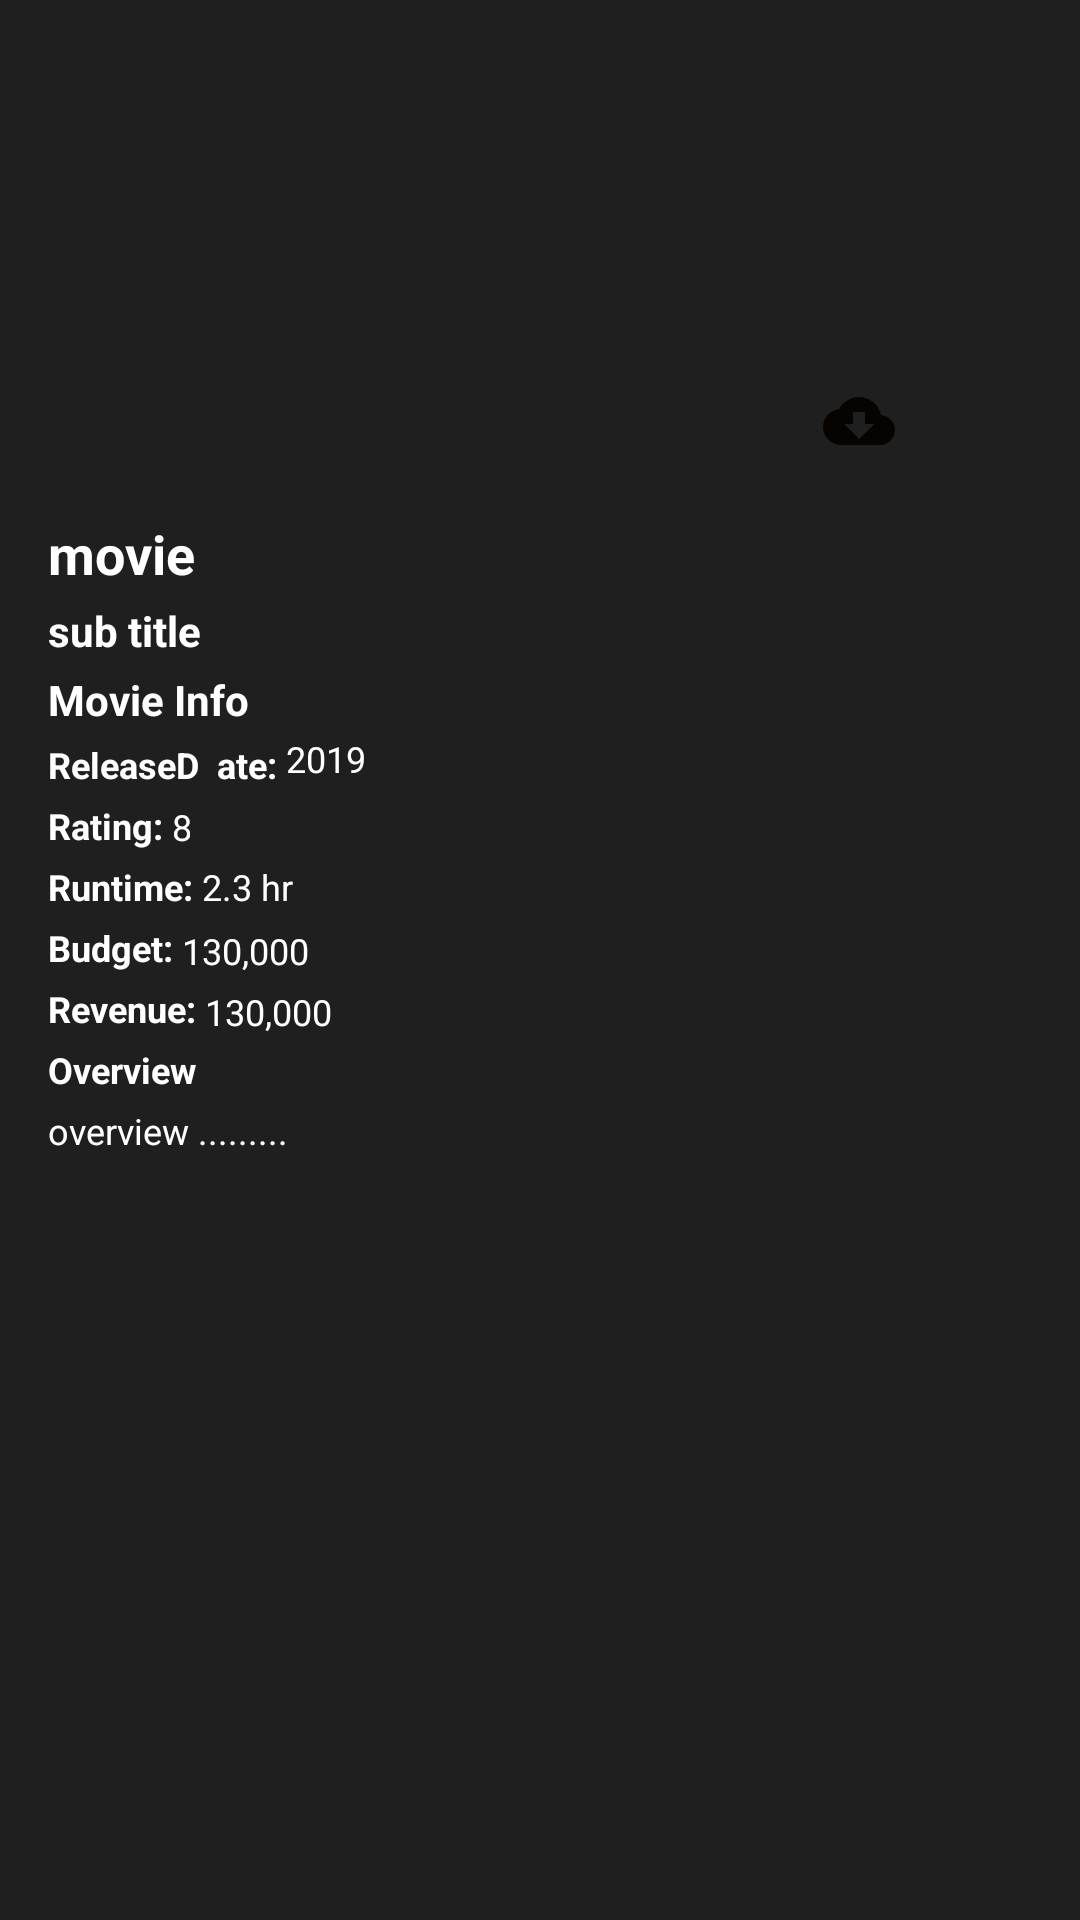

Screen size 1080x1920. Icon name, then its box in pixels as (x1=x1, y1=y1, x2=x2, y2=y2):
download: (x1=823, y1=397, x2=895, y2=445)
